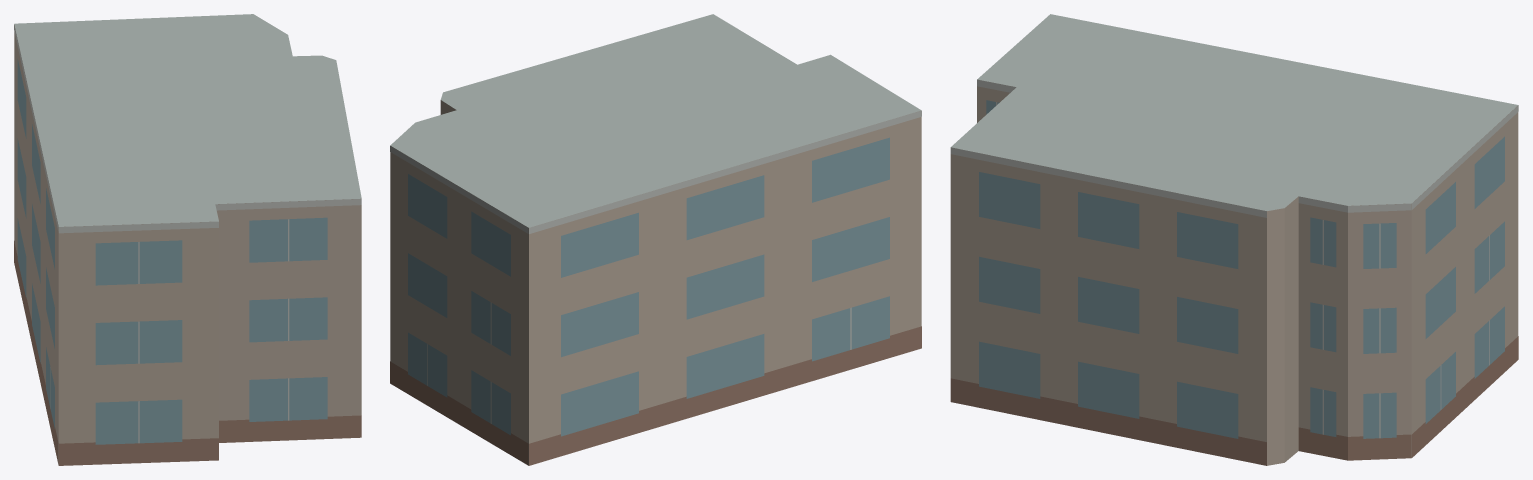
Rendered from survey-upis-32675395.glb.
3 views of the same model, side by side, from view 1: azimuth 30°, elevation 25°; view 2: azimuth 150°, elevation 25°; view 3: azimuth 270°, elevation 25° (orthographic). The views are drawn at different scales.
Visible parts, largest first — view 1: survey-upis-32675395.tmp; view 2: survey-upis-32675395.tmp; view 3: survey-upis-32675395.tmp.
Part boxes in pixels (left/top/right/bottom): survey-upis-32675395.tmp: left=14, top=14, right=361, bottom=465; survey-upis-32675395.tmp: left=390, top=14, right=921, bottom=465; survey-upis-32675395.tmp: left=950, top=14, right=1518, bottom=465.
Size of the model in its own units: 15.2 by 9.15 by 18.5.
